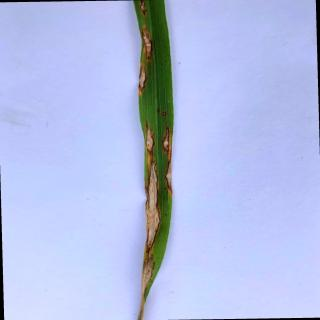Blast: (143, 160, 162, 253), (142, 252, 154, 296), (141, 25, 153, 62), (144, 124, 156, 156), (165, 158, 173, 197), (139, 63, 148, 96), (161, 126, 171, 155), (138, 0, 148, 18), (161, 111, 168, 117)
